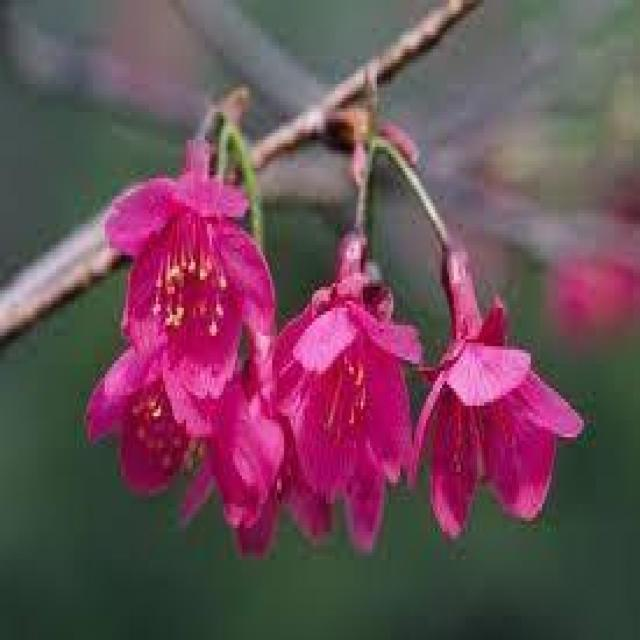organic waste: (377, 142, 573, 530), (101, 91, 285, 413), (80, 274, 280, 551), (274, 109, 410, 504)
